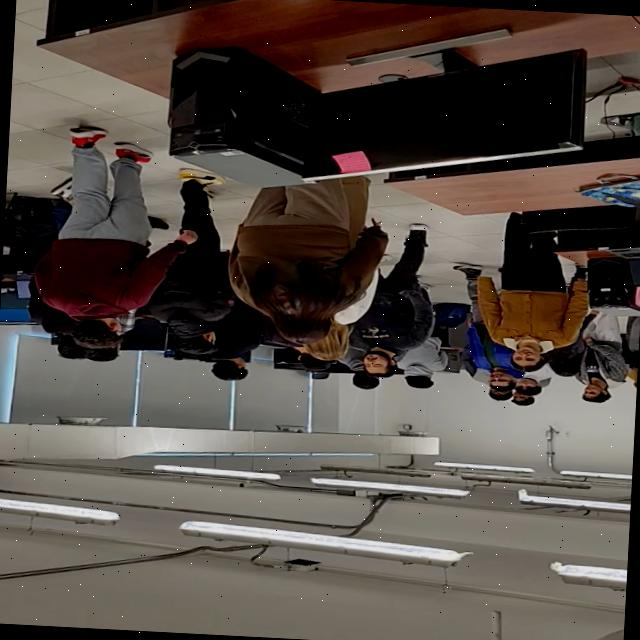Persona: (26, 123, 202, 354), (221, 164, 391, 350), (471, 212, 595, 376), (153, 167, 238, 354), (344, 221, 435, 380), (20, 273, 138, 364), (446, 262, 528, 392), (288, 257, 382, 362), (568, 312, 632, 404), (195, 312, 273, 382), (540, 308, 598, 378), (395, 328, 450, 393), (458, 339, 514, 402), (334, 354, 388, 390), (619, 314, 640, 396), (514, 357, 556, 398), (298, 348, 336, 372), (511, 391, 535, 408)
